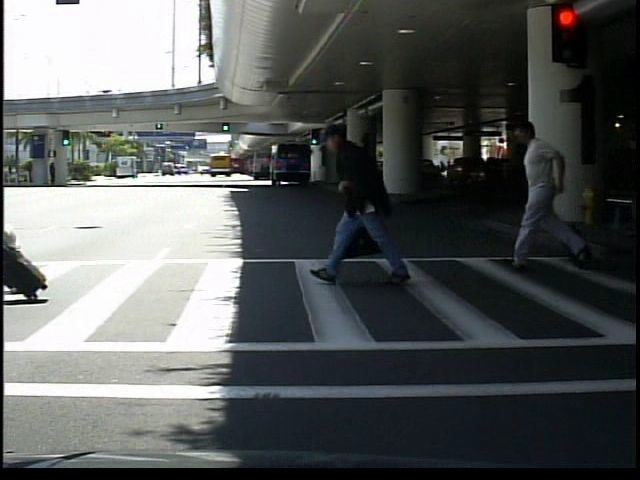person: (319, 115, 407, 288), (515, 112, 580, 270)
